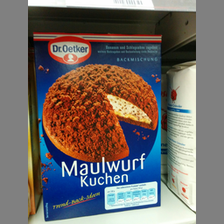cake: (32, 31, 167, 222)
